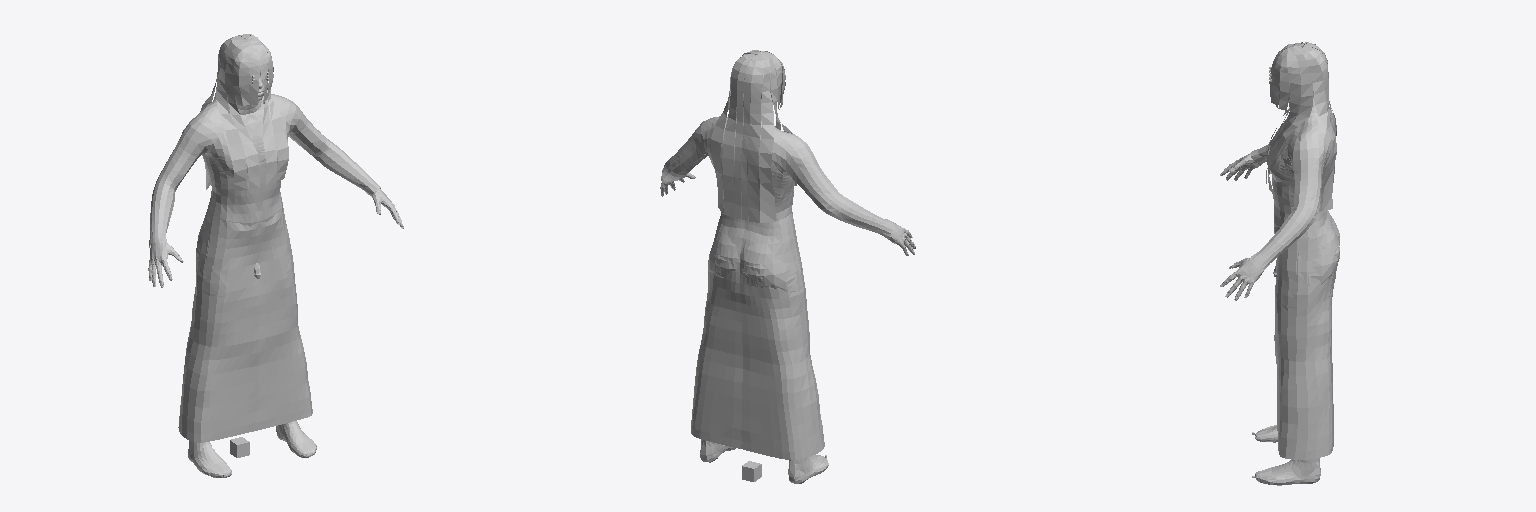
3 renders of one model, left to right at view 1: azimuth 30°, elevation 25°; view 2: azimuth 150°, elevation 25°; view 3: azimuth 270°, elevation 25°, orthographic.
Visible parts, largest first — view 1: base.obj; view 2: base.obj; view 3: base.obj.
Boxes of the visible parts, box(x1,y1,x2,y2) form: base.obj: box(148, 34, 403, 477); base.obj: box(660, 50, 915, 483); base.obj: box(1220, 42, 1339, 485).
Bounding box in the file's own units: 10.54 × 16.94 × 4.39.